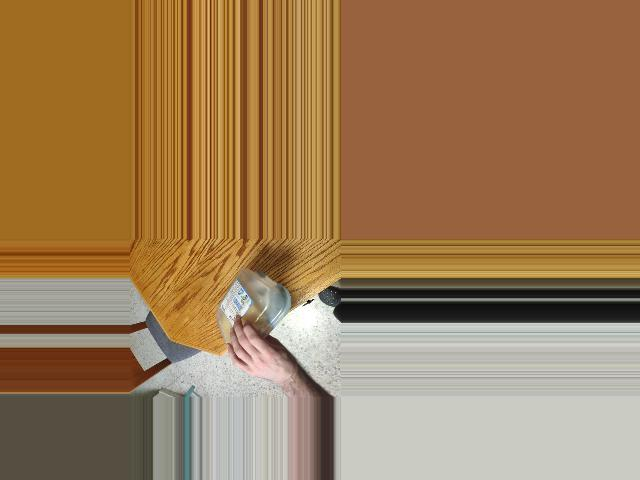cheese: (214, 267, 286, 362)
